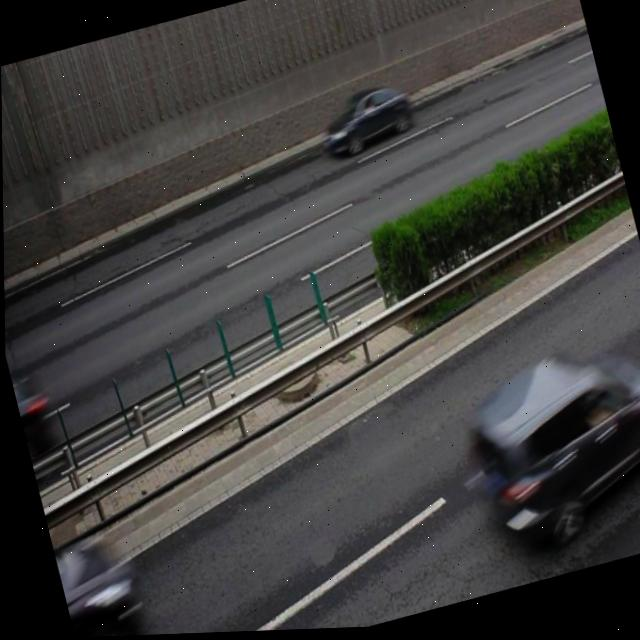car: (448, 325, 640, 562), (50, 527, 152, 639), (313, 78, 418, 164)
